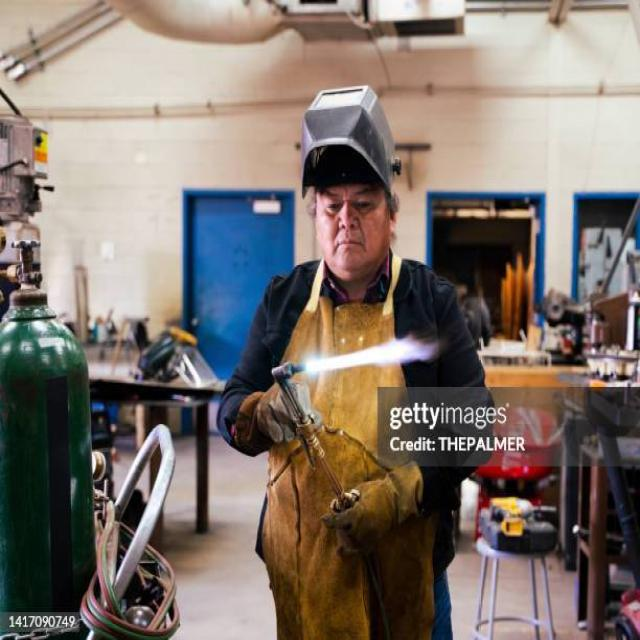helmet_lifted: (300, 80, 399, 282)
without_helmet: (314, 182, 398, 283)
